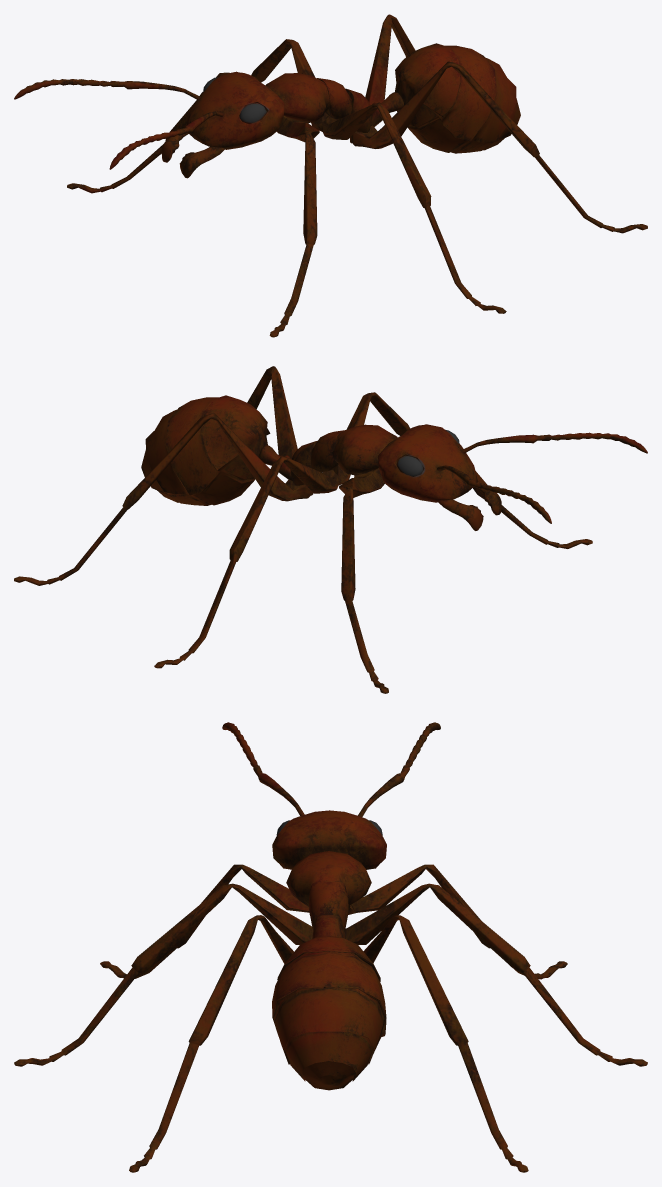
Rendered from ant.glb.
The picture shows the model from 3 angles, top to bottom: view 1: azimuth 30°, elevation 25°; view 2: azimuth 150°, elevation 25°; view 3: azimuth 270°, elevation 25°; orthographic projection. The views are drawn at different scales.
Visible parts, largest first — view 1: g; view 2: g; view 3: g.
Part boxes in pixels (box(x1,y1,x2,y2)): g: box(14, 14, 647, 337); g: box(14, 366, 647, 693); g: box(14, 722, 647, 1172).
Size of the model in its own units: 183 by 61.26 by 179.
Materials: 1 (1 with a texture image).
